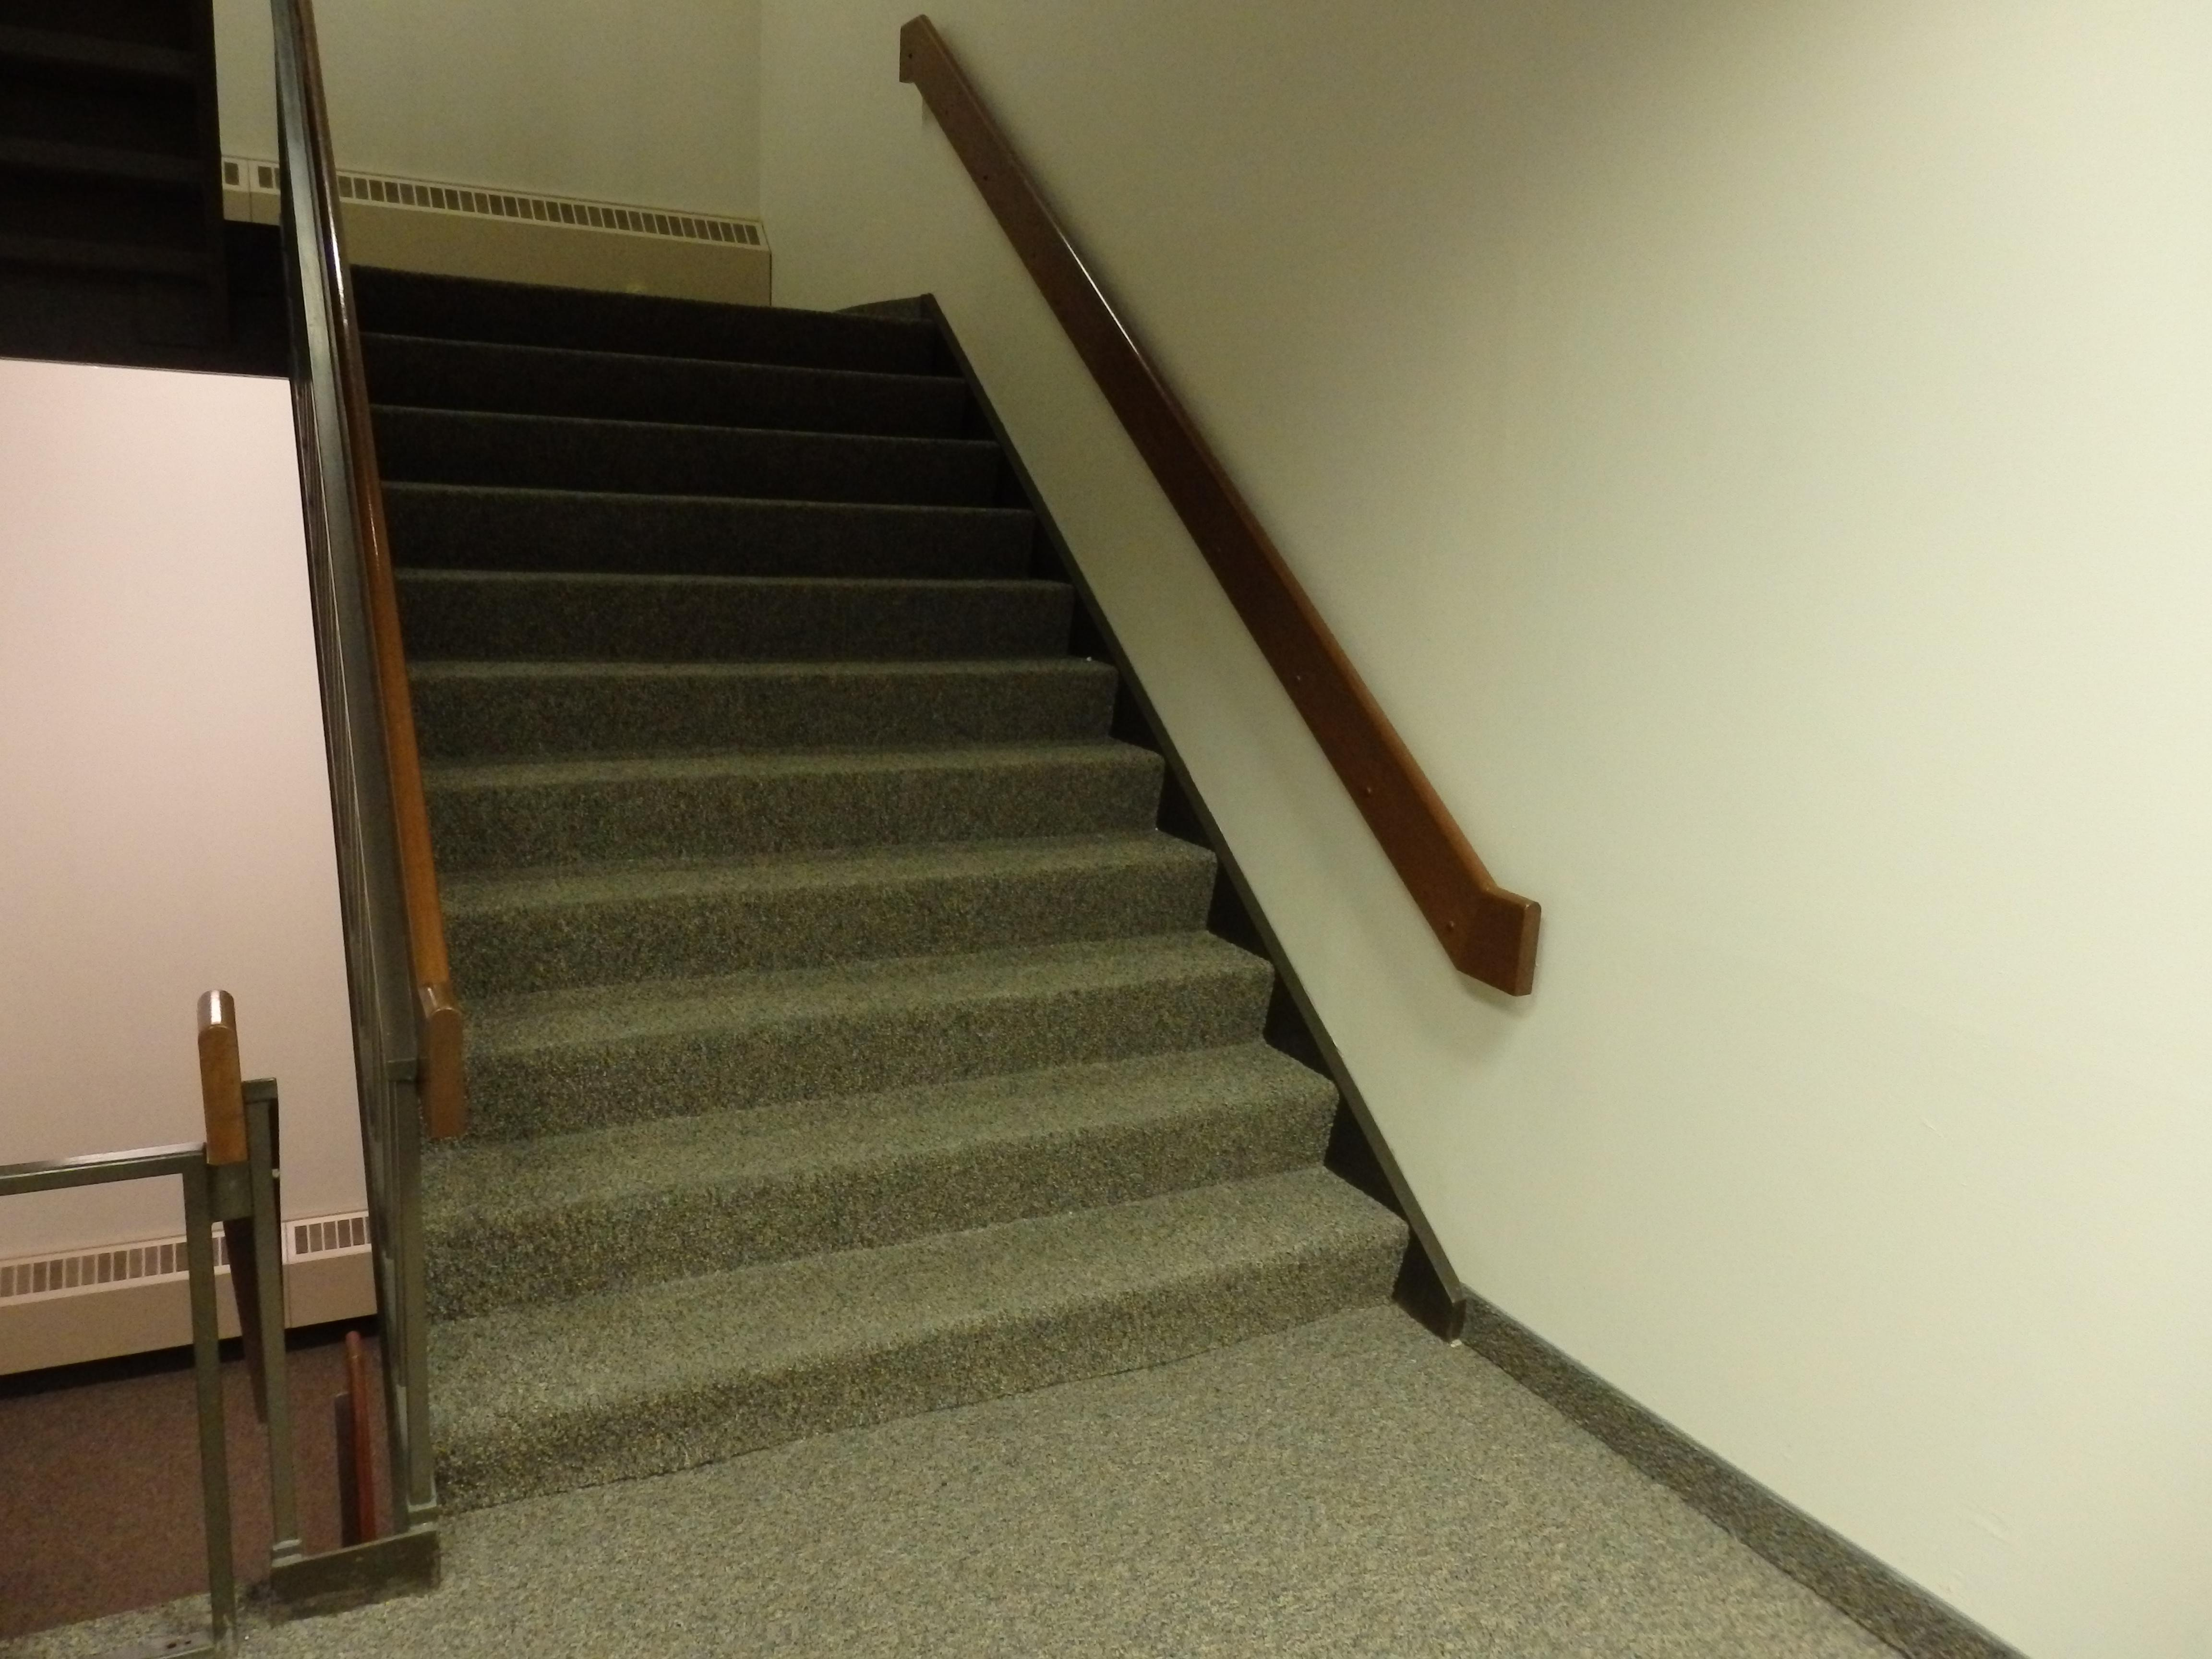stairs_up: (315, 237, 1426, 1535)
